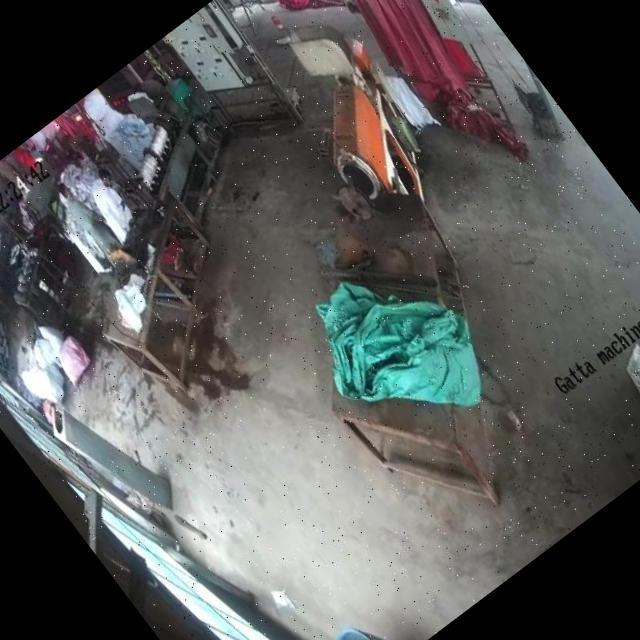person: (77, 163, 152, 247), (50, 170, 120, 251)
